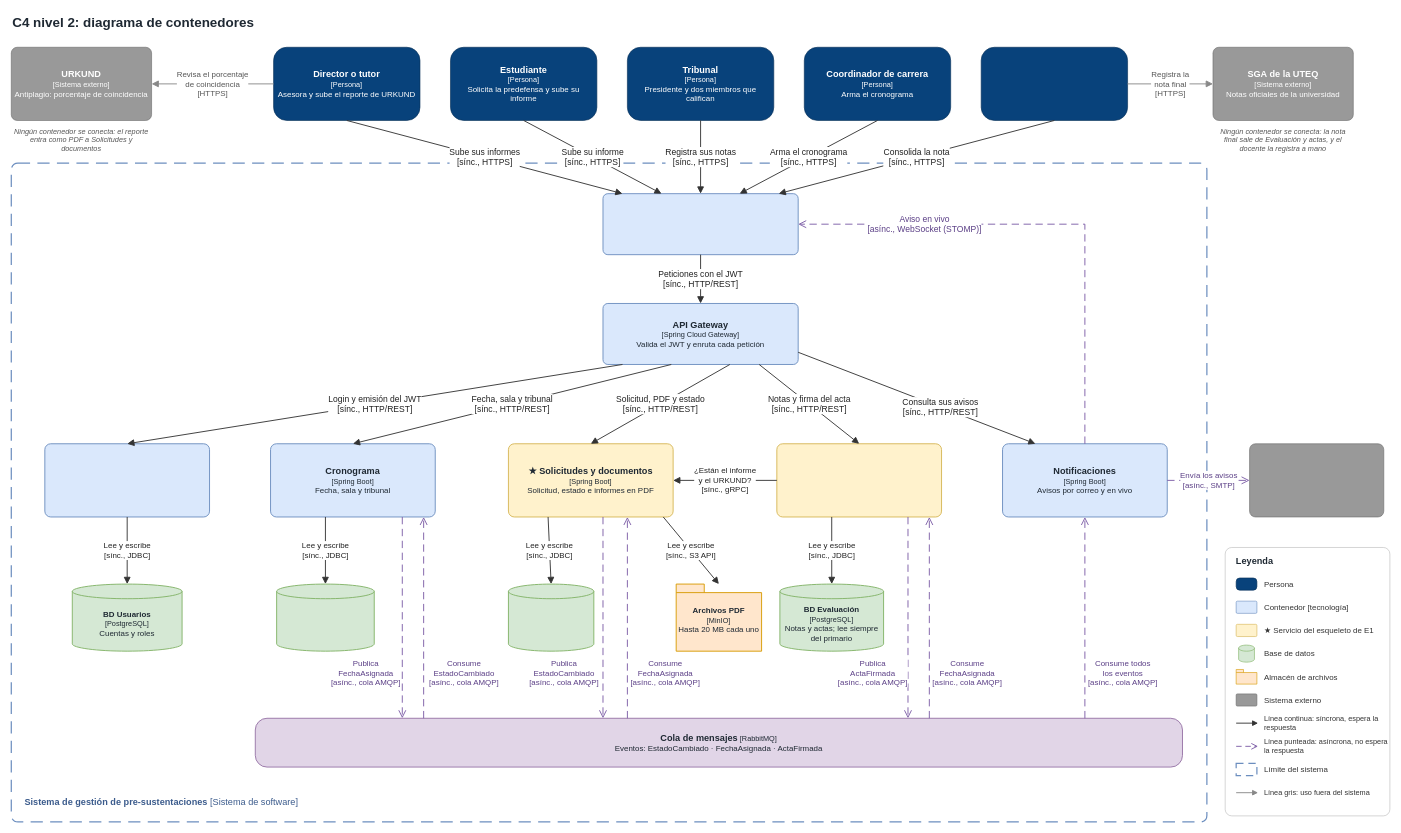
This 1401x833 diagram has some shape labels left out. Here are the shapes that lost their labels. From the top down, the centre of each, then its label:
point (1054, 83): Docente de Titulación II [Persona] Pone su 60 % y la nota final
point (700, 224): Aplicación web [SPA en Angular] Pantallas para computadora y celular (RNF-03)
point (127, 480): Usuarios [Spring Boot] Cuentas, roles y login
point (859, 480): ★ Evaluación y actas [Spring Boot] Rúbrica, nota final y acta
point (1316, 480): Servicio de correo [Sistema externo] Entrega los avisos a estudiantes y docentes
point (325, 617): BD Cronograma [PostgreSQL] Fechas y tribunales
point (551, 617): BD Solicitudes [PostgreSQL] Solicitudes y estados
